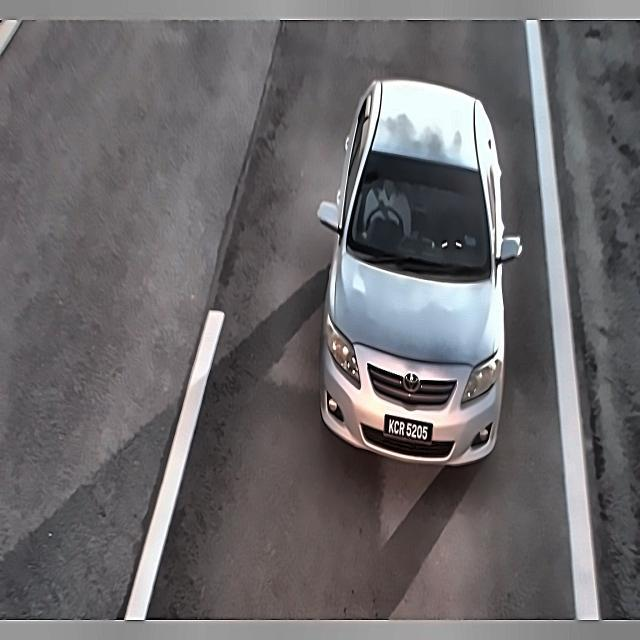car: (379, 406, 437, 454)
